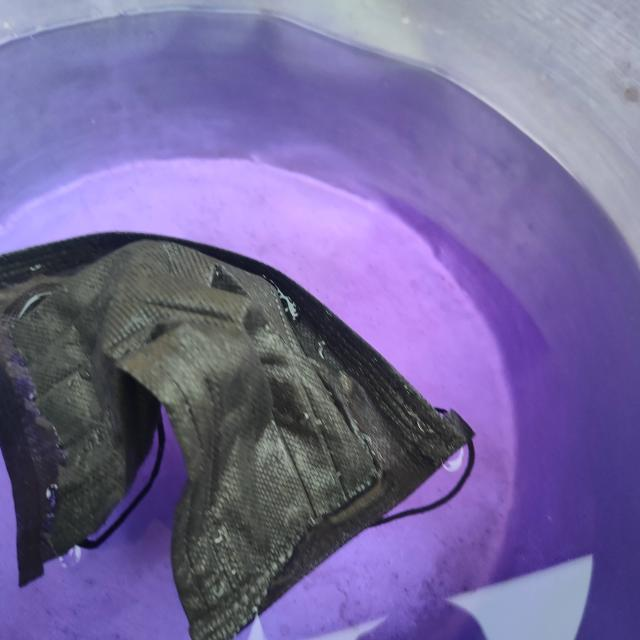mask: (0, 193, 484, 640)
